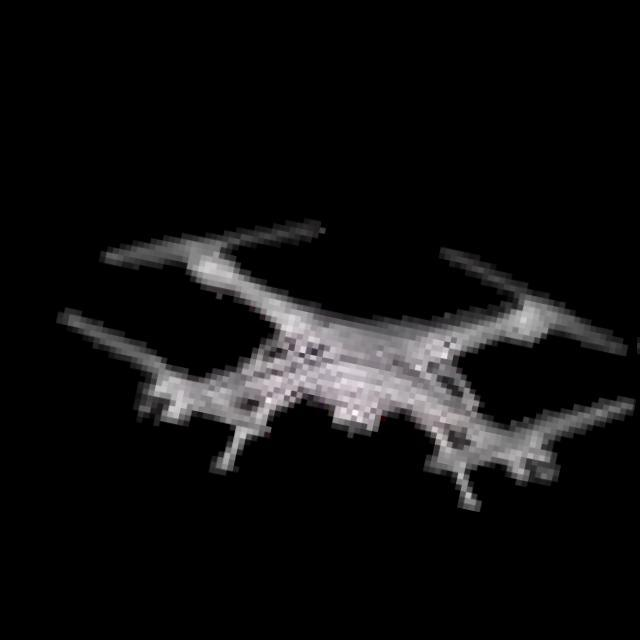drone: (49, 208, 636, 526)
